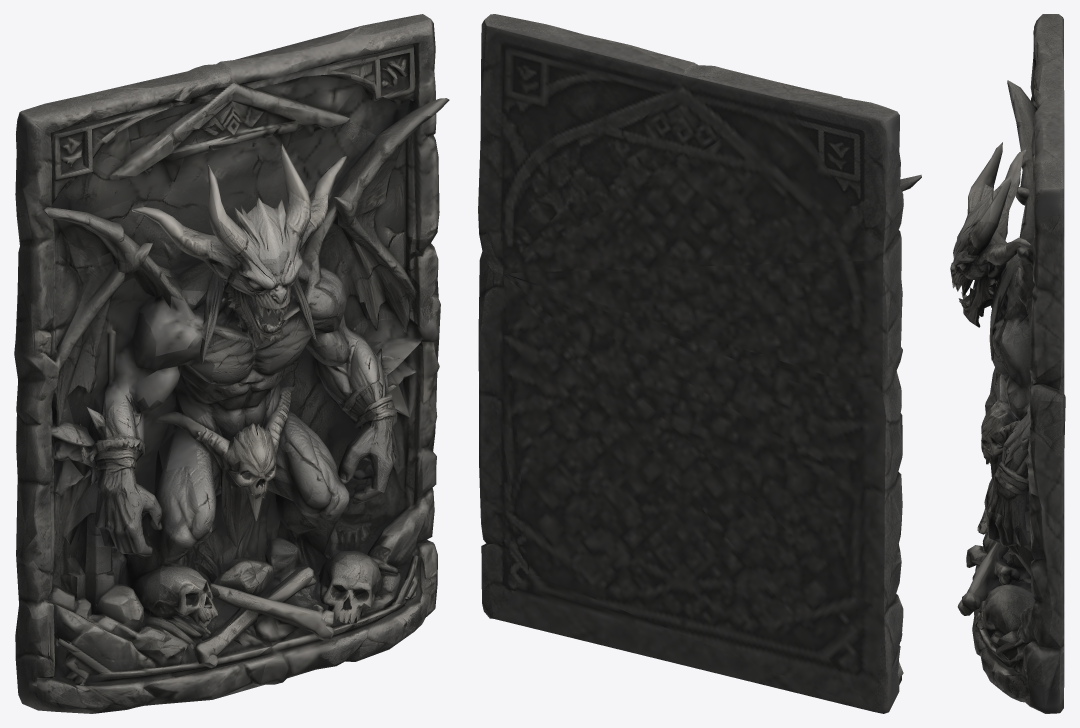
Rendered from Decoration_demon_1.glb.
3 views of the same model, side by side, from view 1: azimuth 30°, elevation 25°; view 2: azimuth 150°, elevation 25°; view 3: azimuth 270°, elevation 25° (orthographic). The views are drawn at different scales.
Parts seen in each view (by area): view 1: Mesh_0; view 2: Mesh_0; view 3: Mesh_0.
Boxes of the visible parts, <box> form: Mesh_0: <box>14,14,449,713</box>; Mesh_0: <box>478,14,921,713</box>; Mesh_0: <box>950,14,1065,713</box>.
Size of the model in its own units: 1.39 by 1.9 by 0.3765.
1 material, 1 textured.
